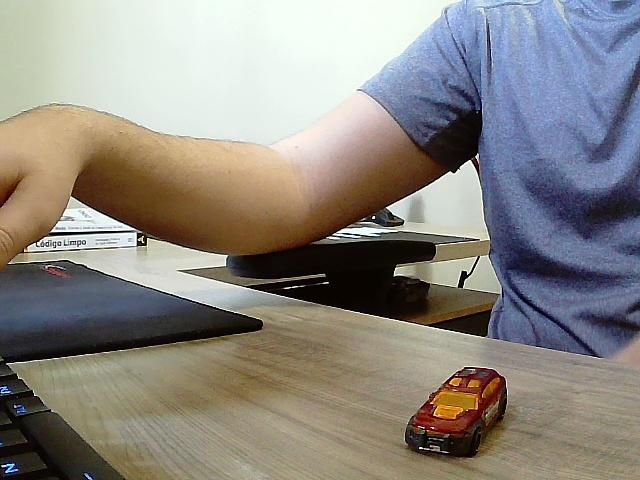Carro: (404, 368, 508, 459)
